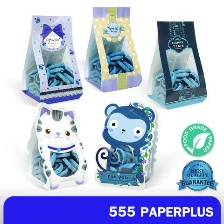snack: (87, 95, 164, 193), (139, 13, 211, 113), (13, 9, 86, 106), (18, 97, 91, 194), (78, 2, 145, 96)
